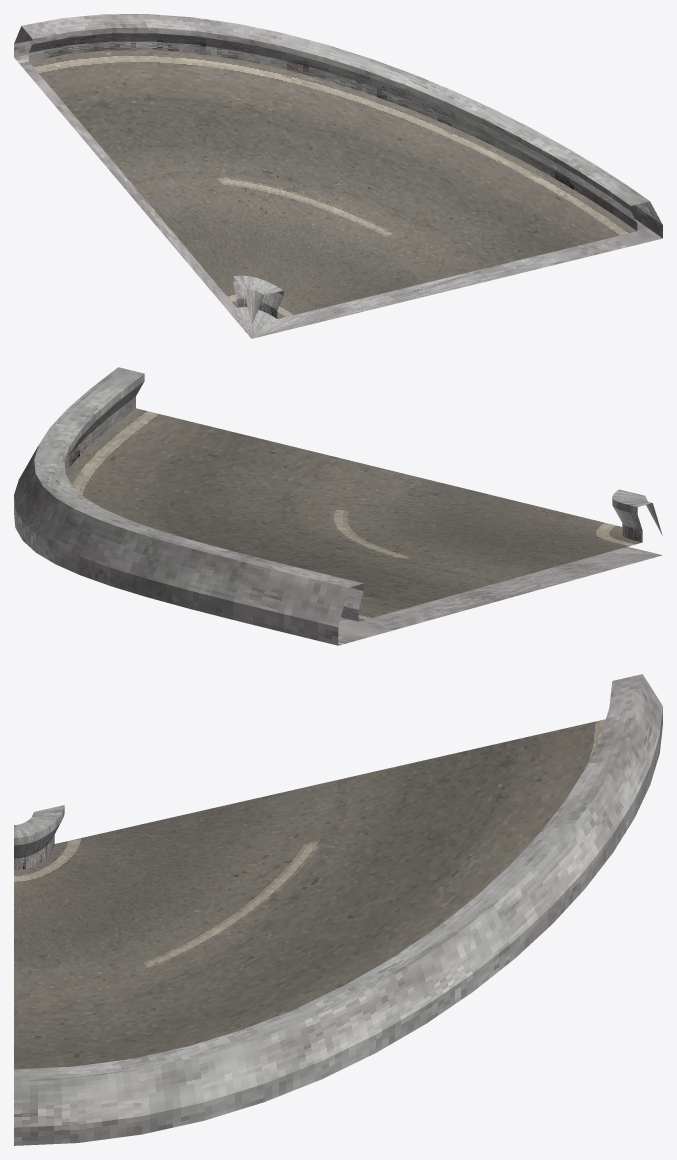
The model's file is road-Turn-Flat-HalfBankedLeft-Even-Left-Size1.glb.
3 views of the same model, one above another, from view 1: azimuth 30°, elevation 25°; view 2: azimuth 150°, elevation 25°; view 3: azimuth 270°, elevation 25° (orthographic). The views are drawn at different scales.
Parts seen in each view (by area): view 1: road-Turn-Flat-HalfBankedLeft-Even-Left-Size1; view 2: road-Turn-Flat-HalfBankedLeft-Even-Left-Size1; view 3: road-Turn-Flat-HalfBankedLeft-Even-Left-Size1.
Boxes of the visible parts, x1,y1,x2,y2 form: road-Turn-Flat-HalfBankedLeft-Even-Left-Size1: (14,14,662,338); road-Turn-Flat-HalfBankedLeft-Even-Left-Size1: (14,367,662,645); road-Turn-Flat-HalfBankedLeft-Even-Left-Size1: (14,674,662,1145).
Bounding box in the file's own units: 1 × 0.3359 × 1.
Materials: 2 (2 with a texture image).
